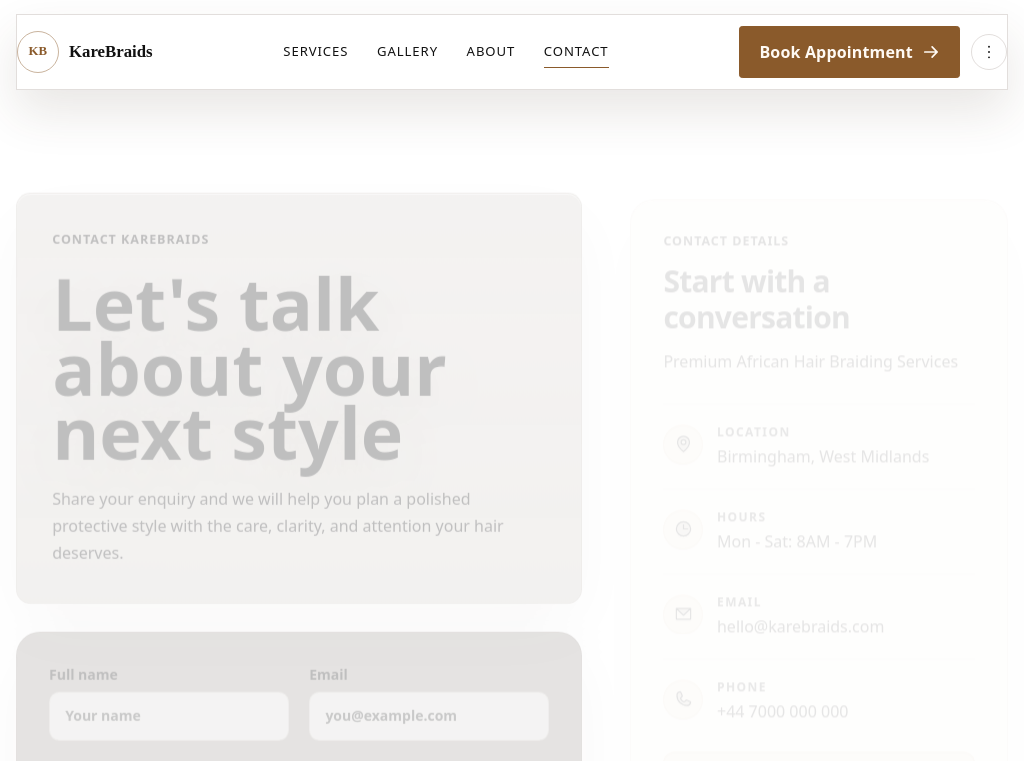
contact page › submits through the service and replaces the form with the required success card
In the field labelled "Full name": (169,716) [49, 692, 289, 741], type "Amara Okafor"
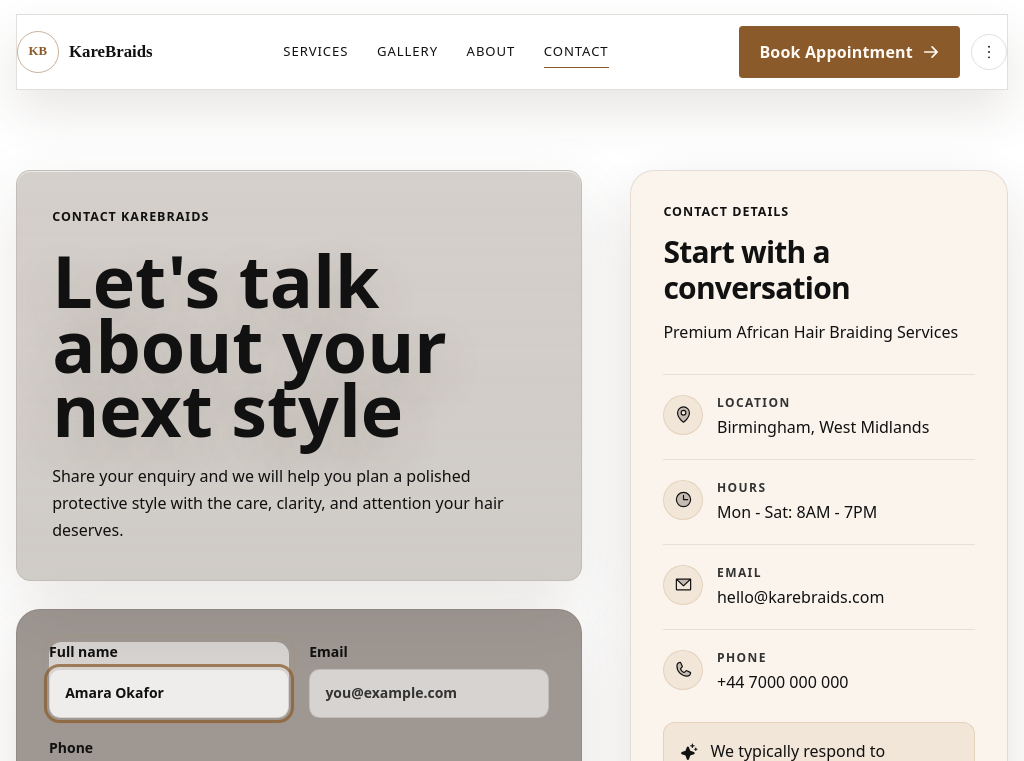
In the field labelled "Email": (429,693) [309, 669, 549, 718], type "amara@example.com"
(page scrolled)
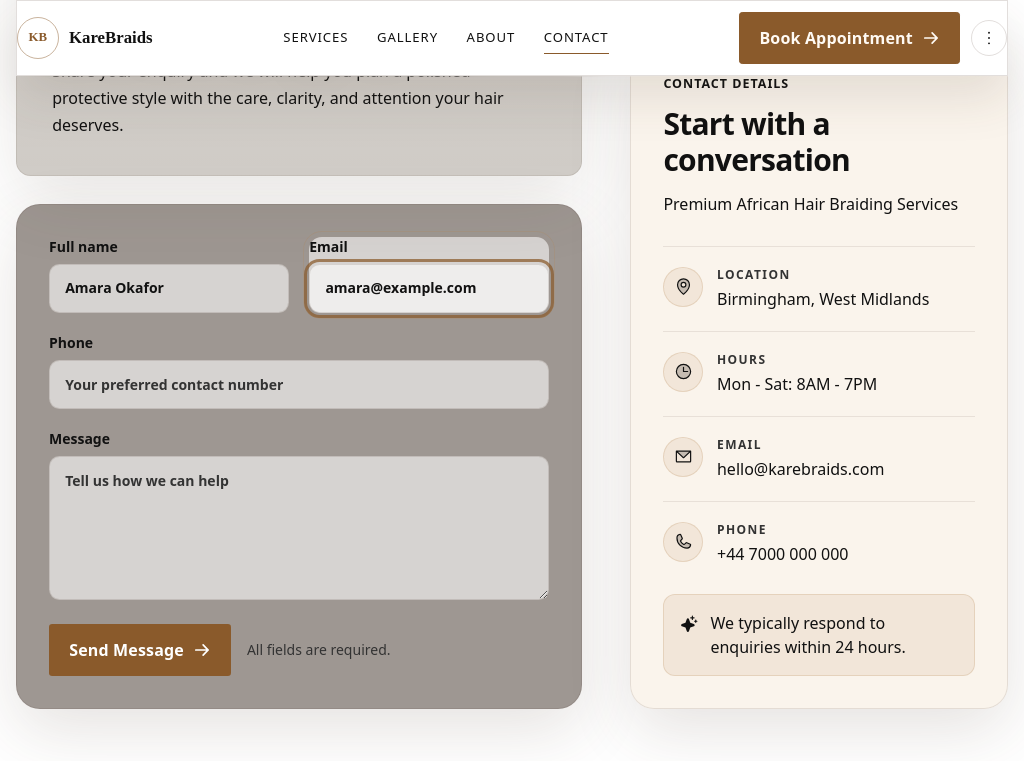
In the field labelled "Phone": (299,385) [49, 360, 549, 409], type "+44 7000 000 000"
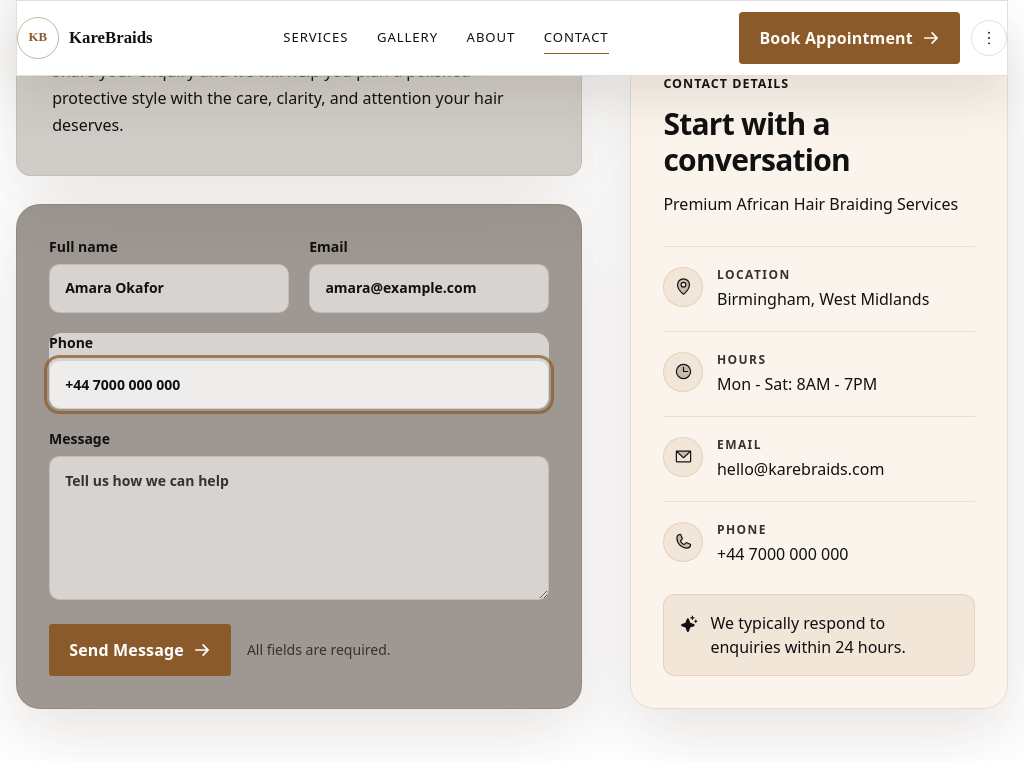
In the text box labelled "Message": (299,528) [49, 456, 549, 600], type "I would like help choosing a style."
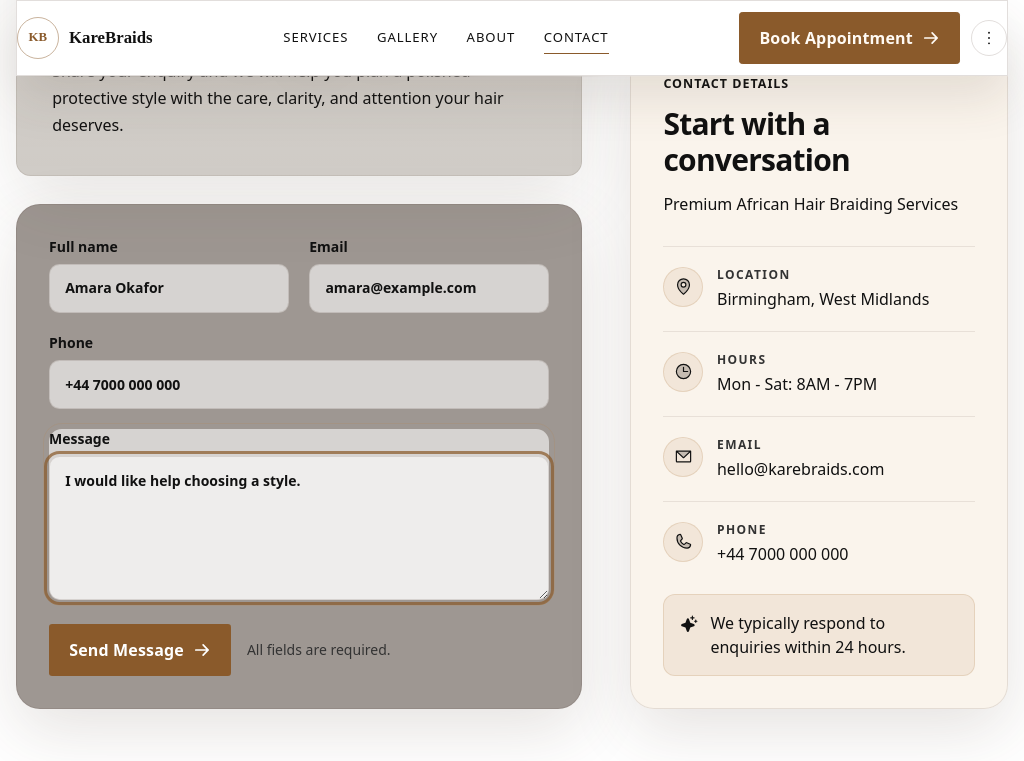
Click the button "Send Message": (140,650) [49, 624, 231, 676]
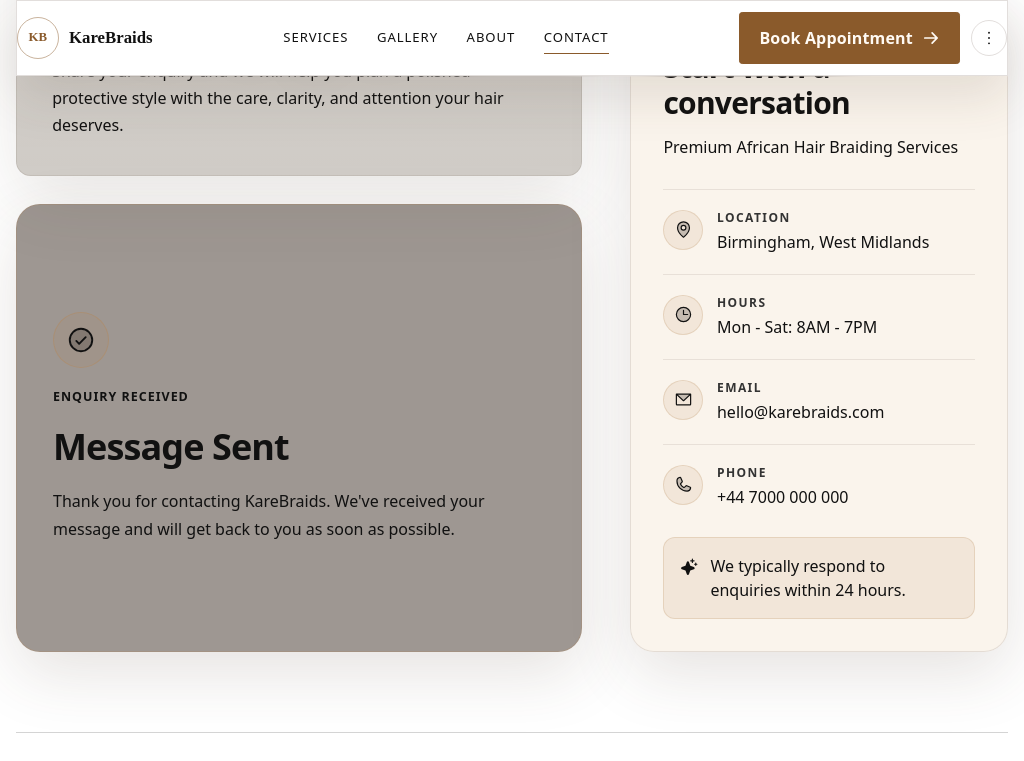
Now the heading "Message Sent" is shown, box [53, 427, 289, 467]
Now the text "Thank you for contacting KareBraids. We've received your message and will get back to you as soon as possible." is shown, box [53, 490, 485, 540]
Now the button "Send Message" is gone
